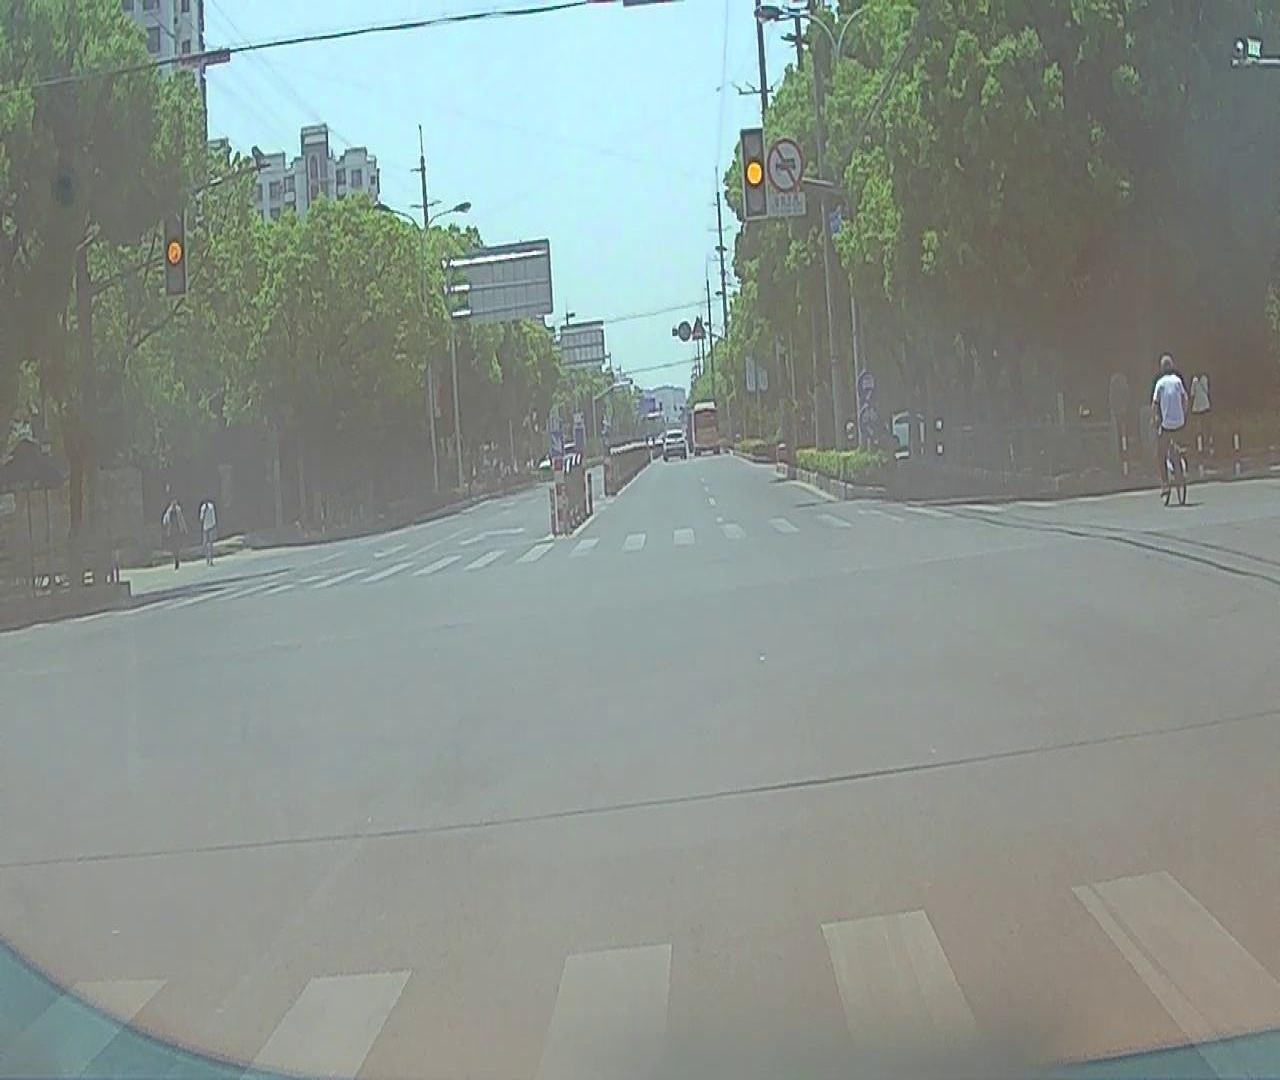yellow: (743, 127, 765, 216), (165, 210, 187, 294)
